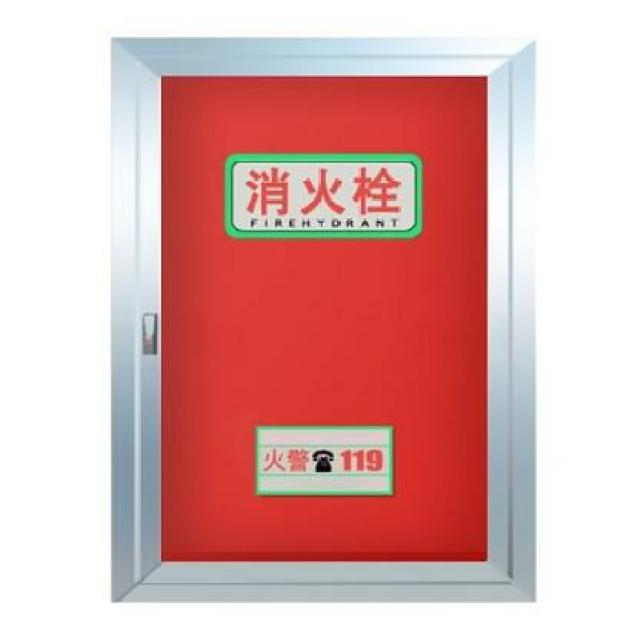firehydrant: (103, 31, 541, 608)
